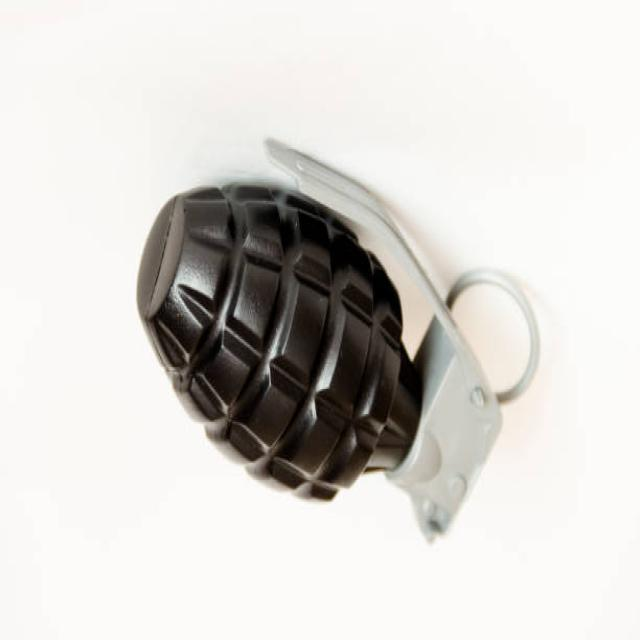grenade: (133, 136, 548, 549)
